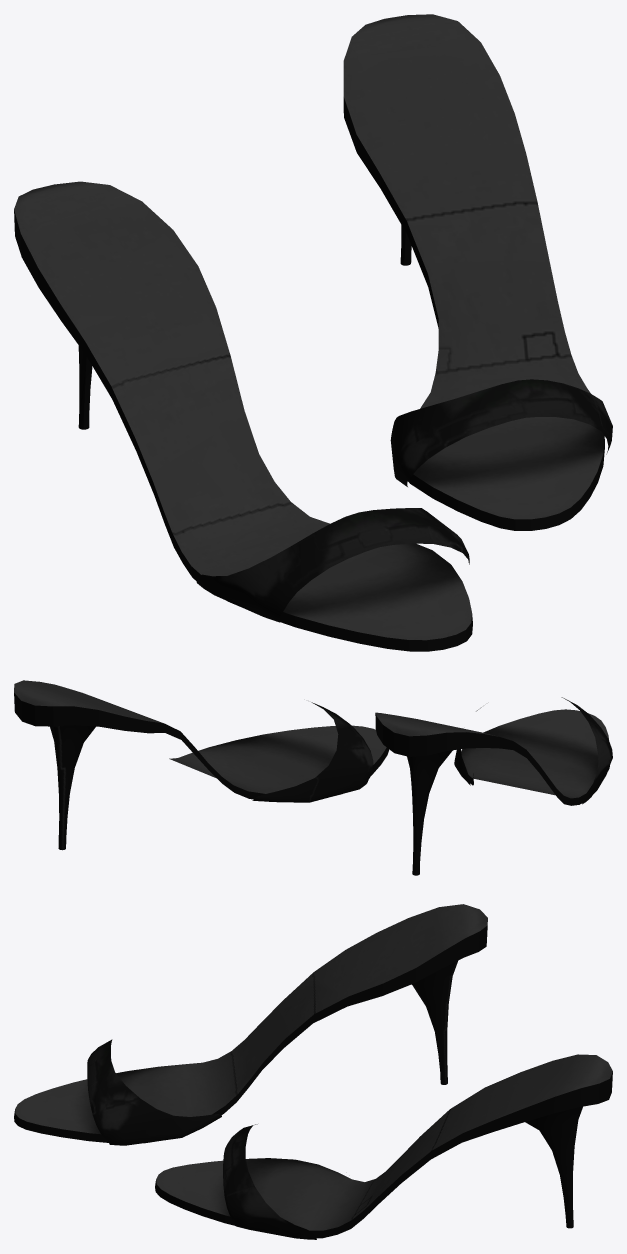
The model's file is Others_68042cea-6cc2-5b40-8166-c40ce4dc4bfe.glb.
3 renders of one model, top to bottom at view 1: azimuth 30°, elevation 25°; view 2: azimuth 150°, elevation 25°; view 3: azimuth 270°, elevation 25°, orthographic. The views are drawn at different scales.
Parts seen in each view (by area): view 1: raw_model.obj; view 2: raw_model.obj; view 3: raw_model.obj.
Part boxes in pixels (left/top/right/bottom): raw_model.obj: left=14, top=14, right=612, bottom=651; raw_model.obj: left=14, top=680, right=612, bottom=875; raw_model.obj: left=14, top=904, right=612, bottom=1239.
Bounding box in the file's own units: 0.2187 × 0.0927 × 0.2898.
1 material, 1 textured.
